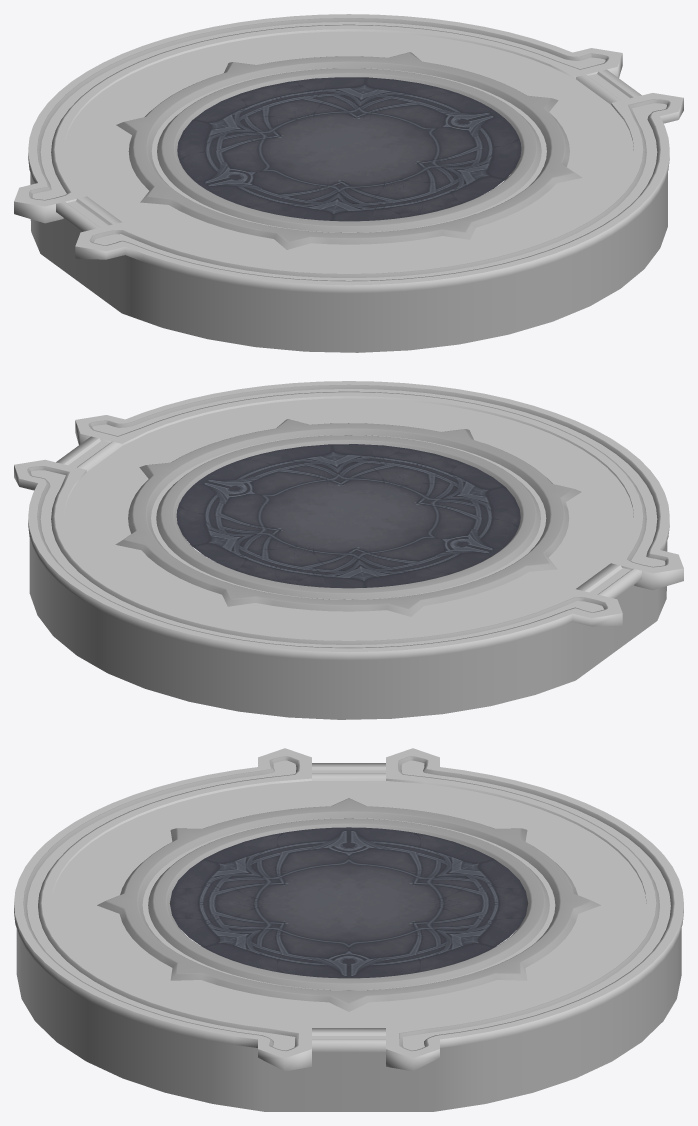
The model's file is taizi2.fbx.
3 renders of one model, top to bottom at view 1: azimuth 30°, elevation 25°; view 2: azimuth 150°, elevation 25°; view 3: azimuth 270°, elevation 25°, orthographic. The views are drawn at different scales.
Visible parts, largest first — view 1: taizi3, taizi1, water2, taizi4, taizi2, water1, taizi5, taizi7, water3; view 2: taizi3, taizi1, water2, taizi4, taizi2, water1, taizi5, taizi7, water3; view 3: taizi3, taizi1, water2, taizi4, taizi2, water1, taizi5, taizi7, water3.
Part boxes in pixels (x1,y1,x2,y2): taizi3: [177, 77, 521, 221]; taizi1: [30, 172, 667, 352]; water2: [65, 31, 633, 269]; taizi4: [116, 52, 582, 249]; taizi2: [14, 14, 683, 293]; water1: [93, 43, 604, 260]; taizi5: [29, 18, 670, 281]; taizi7: [32, 22, 666, 280]; water3: [64, 31, 632, 269]; taizi3: [176, 444, 520, 588]; taizi1: [29, 538, 667, 719]; water2: [64, 398, 633, 636]; taizi4: [115, 419, 581, 616]; taizi2: [14, 381, 683, 660]; water1: [93, 410, 604, 627]; taizi5: [27, 384, 668, 648]; taizi7: [31, 389, 665, 647]; water3: [64, 398, 633, 636]; taizi3: [169, 827, 528, 978]; taizi1: [16, 928, 681, 1111]; water2: [52, 781, 645, 1027]; taizi4: [97, 798, 600, 1011]; taizi2: [14, 748, 683, 1071]; water1: [80, 793, 617, 1017]; taizi5: [23, 756, 674, 1051]; taizi7: [27, 760, 670, 1050]; water3: [51, 781, 646, 1027].
Size of the model in its own units: 337 by 37.64 by 307.
